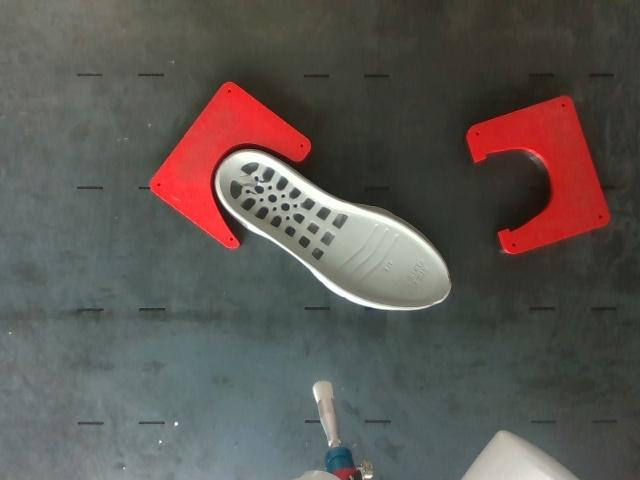shoes: (219, 153, 450, 307)
